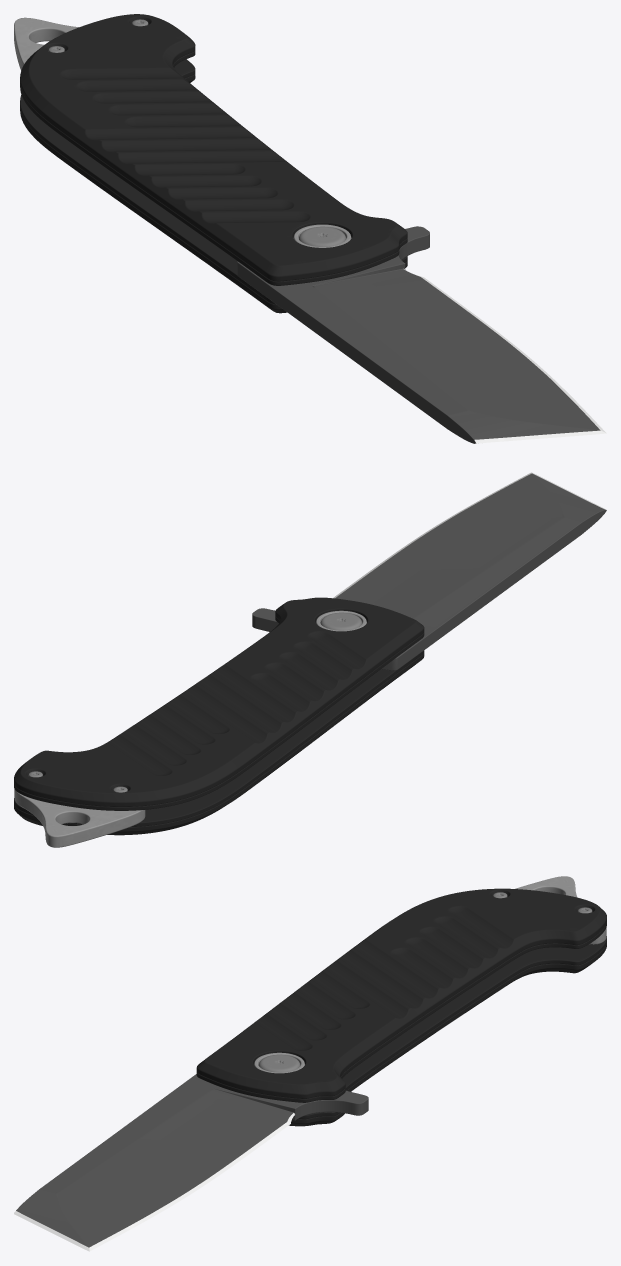
File: navaja.glb
The picture shows the model from 3 angles, top to bottom: view 1: azimuth 30°, elevation 25°; view 2: azimuth 150°, elevation 25°; view 3: azimuth 330°, elevation 25°; orthographic projection. The views are drawn at different scales.
Visible parts, largest first — view 1: body_01_mesh_00, blade_01_mesh_00; view 2: body_01_mesh_00, blade_01_mesh_00; view 3: body_01_mesh_00, blade_01_mesh_00.
Boxes of the visible parts, x1=… form: body_01_mesh_00: x1=14, y1=14, x2=407, y2=313; blade_01_mesh_00: x1=237, y1=226, x2=606, y2=443; body_01_mesh_00: x1=14, y1=597, x2=424, y2=847; blade_01_mesh_00: x1=252, y1=472, x2=606, y2=670; body_01_mesh_00: x1=196, y1=876, x2=606, y2=1126; blade_01_mesh_00: x1=14, y1=1074, x2=368, y2=1251.
Size of the model in its own units: 0.0353 by 0.00854 by 0.1844.
5 materials, 3 textured.
